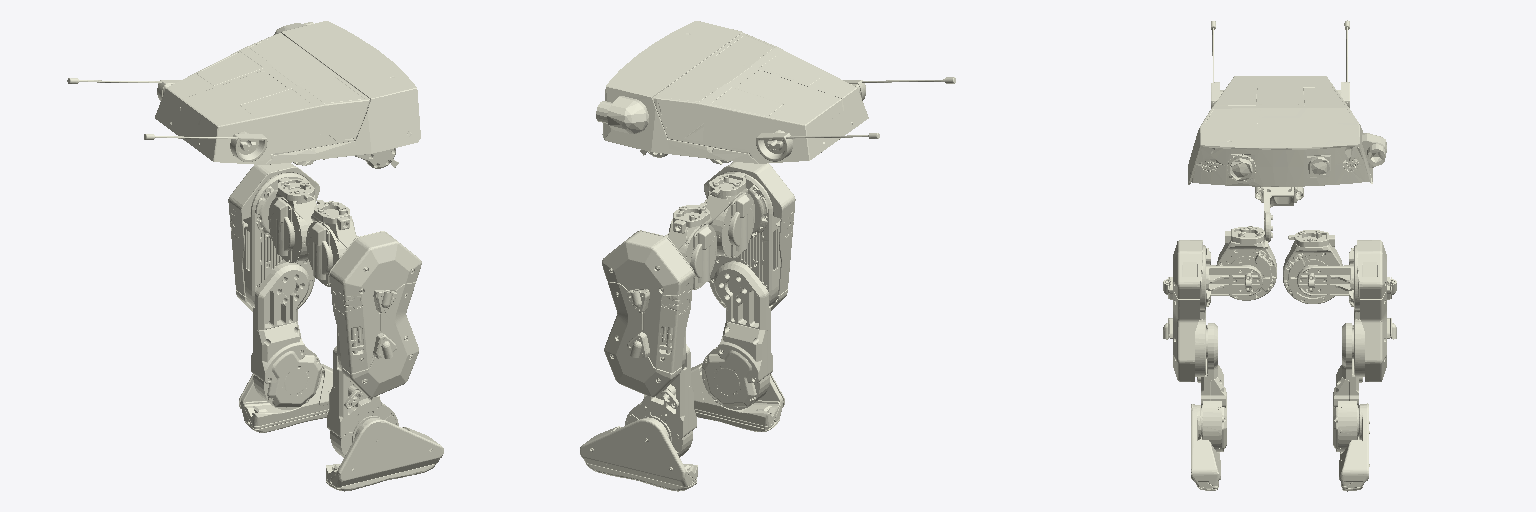
robot.urdf — bdx_v4:
<?xml version="1.0"?>
<robot name="bdx_v4">

    <material name="black"> <color rgba="0.0 0.0 0.0 1.0"/> </material>
    <material name="white"> <color rgba="1.0 1.0 1.0 1.0"/> </material>
    <material name="red"> <color rgba="0.8 0.0 0.0 1.0"/> </material>
    <material name="yellow"> <color rgba="1.0 1.0 0.0 1.0"/> </material>
    <material name="blue"> <color rgba="0.0 0.0 0.8 1.0"/> </material>
    <material name="green"> <color rgba="0.0 0.8 0.0 1.0"/> </material>
    <material name="orange"> <color rgba="1 0.4235 0.0392 1.0"/> </material>
    <material name="silver"> <color rgba="0.9137 0.9137 0.8471 1.0"/> </material>

    <link name="trunk"/>
    <link name="base_link">
        <inertial>
            <origin xyz="-0.019956547048000001 -9.4562330000000003e-05 0.069185614313999999" rpy="0 0 0"/>
            <mass value="6.6133790757300002"/>
            <inertia ixx="0.039260766863999999" ixy="-0.00012462819199999999" ixz="0.002935471379"
                     iyy="0.081055838429999999" iyz="1.8834257999999999e-05" izz="0.070623365802999993"/>
        </inertial>
        <visual>
            <origin xyz="0 0 0" rpy="0 0 0"/>
            <geometry>
                <mesh filename="package://robot_description/robots/bdx_v4/mesh/base_link.STL"/>
            </geometry>
            <material name="silver"/>
        </visual>
        <collision>
            <origin xyz="0 0 0" rpy="0 0 0"/>
            <geometry>
                <mesh filename="package://robot_description/robots/bdx_v4/mesh/base_link.STL"/>
            </geometry>
        </collision>
    </link>
    <joint name="dummy_joint" type="fixed">
        <parent link="trunk"/>
        <child link="base_link"/>
    </joint>
    <link name="left_hip_yaw_link">
        <inertial>
            <origin xyz="-0.0013704825649999974 0.0047008836579999977 -0.053614463938000005" rpy="0 0 0"/>
            <mass value="0.72758306889699997"/>
            <inertia ixx="0.0011982664849999999" ixy="7.3257500000000001e-06" ixz="-1.7438007000000001e-05"
                     iyy="0.00087218245400000002" iyz="9.8185919999999993e-06" izz="0.00054045132699999995"/>
        </inertial>
        <visual>
            <origin xyz="0 0 0" rpy="0 0 0"/>
            <geometry>
                <mesh filename="package://robot_description/robots/bdx_v4/mesh/left_hip_yaw.STL"/>
            </geometry>
            <material name="silver"/>
        </visual>
    </link>
    <joint name="left_hip_yaw_joint" type="revolute">
        <origin xyz="-0.019800000000000002 0.048750000000000002 0.065100000000000005" rpy="0 0 0"/>
        <parent link="base_link"/>
        <child link="left_hip_yaw_link"/>
        <axis xyz="0 0 1"/>
        <limit lower="-0.349066" upper="0.349066" effort="1000" velocity="100"/>
    </joint>
    <link name="left_hip_roll_link">
        <inertial>
            <origin xyz="0.002434906132 0.031075164804000001 -4.3982000000000003e-08" rpy="0 0 0"/>
            <mass value="0.17816248602099999"/>
            <inertia ixx="0.00022406375199999999" ixy="2.7766400000000001e-06" ixz="4.0480000000000001e-09"
                     iyy="4.8951405000000001e-05" iyz="-1.227e-09" izz="0.000207381101"/>
        </inertial>
        <visual>
            <origin xyz="0 0 0" rpy="0 0 0"/>
            <geometry>
                <mesh filename="package://robot_description/robots/bdx_v4/mesh/left_hip_roll.STL"/>
            </geometry>
            <material name="silver"/>
        </visual>
    </link>
    <joint name="left_hip_roll_joint" type="revolute">
        <origin xyz="0.017800000000000003 0.0054999999999999979 -0.065100000000000005" rpy="0 0 0"/>
        <parent link="left_hip_yaw_link"/>
        <child link="left_hip_roll_link"/>
        <axis xyz="1 0 0"/>
        <limit lower="-0.698132" upper="0.261799" effort="1000" velocity="100"/>
    </joint>
    <link name="left_hip_pitch_link">
        <inertial>
            <origin xyz="-0.001943711844 0.021611905602999998 -0.05843281744" rpy="0 0 0"/>
            <mass value="1.546391155801"/>
            <inertia ixx="0.0068089450609999996" ixy="-1.4453136000000001e-05" ixz="2.7927387000000001e-05"
                     iyy="0.0077723212580000003" iyz="1.6869981000000001e-05" izz="0.0015997177419999999"/>
        </inertial>
        <visual>
            <origin xyz="0 0 0" rpy="0 0 0"/>
            <geometry>
                <mesh filename="package://robot_description/robots/bdx_v4/mesh/left_hip_pitch.STL"/>
            </geometry>
            <material name="silver"/>
        </visual>
    </link>
    <joint name="left_hip_pitch_joint" type="revolute">
        <origin xyz="0.002 0.066700000000000009 0" rpy="0 0 0"/>
        <parent link="left_hip_roll_link"/>
        <child link="left_hip_pitch_link"/>
        <axis xyz="0 1 0"/>
        <limit lower="-0.52359" upper="2.356194" effort="1000" velocity="100"/>
    </joint>
    <link name="left_knee_link">
        <inertial>
            <origin xyz="-0.0052928658590000004 -0.010948343791000001 -0.099493215772999993" rpy="0 0 0"/>
            <mass value="0.84008606801999997"/>
            <inertia ixx="0.0031077569760000002" ixy="2.4678204000000001e-05" ixz="0.00015599091799999999"
                     iyy="0.0035335563340000002" iyz="-0.000120939988" izz="0.00061717738599999998"/>
        </inertial>
        <visual>
            <origin xyz="0 0 0" rpy="0 0 0"/>
            <geometry>
                <mesh filename="package://robot_description/robots/bdx_v4/mesh/left_knee.STL"/>
            </geometry>
            <material name="silver"/>
        </visual>
        <collision>
            <origin xyz="0 0 0" rpy="0 0 0"/>
            <geometry>
                <mesh filename="package://robot_description/robots/bdx_v4/mesh/left_knee.STL"/>
            </geometry>
        </collision>
    </link>
    <joint name="left_knee_joint" type="revolute">
        <origin xyz="0 0 -0.12" rpy="0 0 0"/>
        <parent link="left_hip_pitch_link"/>
        <child link="left_knee_link"/>
        <axis xyz="0 1 0"/>
        <limit lower="-2.321287" upper="0" effort="1000" velocity="100"/>
    </joint>
    <link name="left_ankle_link">
        <inertial>
            <origin xyz="0.021285777794999999 -0.0018934604689999912 -0.037131302197999982" rpy="0 0 0"/>
            <mass value="0.42536362871400002"/>
            <inertia ixx="0.00043347552500000002" ixy="3.7516683e-05" ixz="9.9205912999999994e-05" iyy="0.001268967094"
                     iyz="-7.3035450999999995e-05" izz="0.00097118438400000003"/>
        </inertial>
        <visual>
            <origin xyz="0 0 0" rpy="0 0 0"/>
            <geometry>
                <mesh filename="package://robot_description/robots/bdx_v4/mesh/left_ankle.STL"/>
            </geometry>
            <material name="silver"/>
        </visual>
        <collision>
            <geometry>
                <mesh filename="package://robot_description/robots/bdx_v4/mesh/left_ankle.STL"/>
            </geometry>
        </collision>
    </link>
    <joint name="left_ankle_joint" type="revolute">
        <origin xyz="0 0.0083000000000000018 -0.14000000000000001" rpy="0 0 0"/>
        <parent link="left_knee_link"/>
        <child link="left_ankle_link"/>
        <axis xyz="0 1 0"/>
        <limit lower="-1.39626" upper="1.39626" effort="1000" velocity="100"/>
    </joint>
    <link name="left_foot">
        <inertial>
        <origin xyz="0 0 0" rpy="0 0 0"/>
        <mass value="1e-9"/>
        <inertia ixx="0" ixy="0" ixz="0" iyy="0" iyz="0" izz="0"/>
        </inertial>
    </link>
    <joint name="left_foot_joint" type="fixed">
        <origin xyz="0.025 0.0 -0.08" rpy="0 0 0"/>
        <parent link="left_ankle_link"/>
        <child link="left_foot"/>
        <axis xyz="0 0 0"/>
    </joint>
    <link name="right_hip_yaw_link">
        <inertial>
            <origin xyz="-0.0013603342579999976 -0.0047002975830000016 -0.053616255320000007" rpy="0 0 0"/>
            <mass value="0.72757471832700005"/>
            <inertia ixx="0.0011981470590000001" ixy="-7.198172e-06" ixz="-1.8172661999999999e-05"
                     iyy="0.00087193251399999996" iyz="-9.8259989999999994e-06" izz="0.00054025604299999996"/>
        </inertial>
        <visual>
            <origin xyz="0 0 0" rpy="0 0 0"/>
            <geometry>
                <mesh filename="package://robot_description/robots/bdx_v4/mesh/right_hip_yaw.STL"/>
            </geometry>
            <material name="silver"/>
        </visual>
    </link>
    <joint name="right_hip_yaw_joint" type="revolute">
        <origin xyz="-0.019800000000000002 -0.048750000000000002 0.065100000000000005" rpy="0 0 0"/>
        <parent link="base_link"/>
        <child link="right_hip_yaw_link"/>
        <axis xyz="0 0 1"/>
        <limit lower="-0.349066" upper="0.349066" effort="1000" velocity="100"/>
    </joint>
    <link name="right_hip_roll_link">
        <inertial>
            <origin xyz="0.0024349059750000002 -0.031075318821999993 -6.9957999999999997e-08" rpy="0 0 0"/>
            <mass value="0.17816248882999999"/>
            <inertia ixx="0.000224062441" ixy="-2.7761439999999999e-06" ixz="-4.3610000000000001e-09"
                     iyy="4.8951320999999997e-05" iyz="-5.69e-10" izz="0.00020738011399999999"/>
        </inertial>
        <visual>
            <origin xyz="0 0 0" rpy="0 0 0"/>
            <geometry>
                <mesh filename="package://robot_description/robots/bdx_v4/mesh/right_hip_roll.STL"/>
            </geometry>
            <material name="silver"/>
        </visual>
    </link>
    <joint name="right_hip_roll_joint" type="revolute">
        <origin xyz="0.0178 -0.0054999999999999979 -0.065100000000000005" rpy="0 0 0"/>
        <parent link="right_hip_yaw_link"/>
        <child link="right_hip_roll_link"/>
        <axis xyz="1 0 0"/>
        <limit lower="-0.261799" upper="0.698132" effort="1000" velocity="100"/>
    </joint>
    <link name="right_hip_pitch_link">
        <inertial>
            <origin xyz="-0.0017495255789999999 -0.021683786784999992 -0.059785911971" rpy="0 0 0"/>
            <mass value="1.508634573091"/>
            <inertia ixx="0.0065804438140000003" ixy="1.1502983999999999e-05" ixz="2.2573144999999999e-05"
                     iyy="0.0074799455270000001" iyz="-3.3984170000000002e-06" izz="0.0015198501160000001"/>
        </inertial>
        <visual>
            <origin xyz="0 0 0" rpy="0 0 0"/>
            <geometry>
                <mesh filename="package://robot_description/robots/bdx_v4/mesh/right_hip_pitch.STL"/>
            </geometry>
            <material name="silver"/>
        </visual>
    </link>
    <joint name="right_hip_pitch_joint" type="revolute">
        <origin xyz="0.002 -0.066700000000000009 0" rpy="0 0 0"/>
        <parent link="right_hip_roll_link"/>
        <child link="right_hip_pitch_link"/>
        <axis xyz="0 1 0"/>
        <limit lower="-0.52359" upper="2.356194" effort="1000" velocity="100"/>
    </joint>
    <link name="right_knee_link">
        <inertial>
            <origin xyz="-0.005292586264 0.010948402630000006 -0.099493689787000017" rpy="0 0 0"/>
            <mass value="0.84007571389500002"/>
            <inertia ixx="0.0031077264559999998" ixy="-2.4679593000000001e-05" ixz="0.00015599712700000001"
                     iyy="0.00353351394" iyz="0.000120938625" izz="0.00061717107400000005"/>
        </inertial>
        <visual>
            <origin xyz="0 0 0" rpy="0 0 0"/>
            <geometry>
                <mesh filename="package://robot_description/robots/bdx_v4/mesh/right_knee.STL"/>
            </geometry>
            <material name="silver"/>
        </visual>
        <collision>
            <origin xyz="0 0 0" rpy="0 0 0"/>
            <geometry>
                <mesh filename="package://robot_description/robots/bdx_v4/mesh/right_knee.STL"/>
            </geometry>
        </collision>
    </link>
    <joint name="right_knee_joint" type="revolute">
        <origin xyz="0 0 -0.12" rpy="0 0 0"/>
        <parent link="right_hip_pitch_link"/>
        <child link="right_knee_link"/>
        <axis xyz="0 1 0"/>
        <limit lower="-2.321287" upper="0" effort="1000" velocity="100"/>
    </joint>
    <link name="right_ankle_link">
        <inertial>
            <origin xyz="0.021197320038000001 0.0019986848659999945 -0.037122430854999999" rpy="0 0 0"/>
            <mass value="0.42488534599799999"/>
            <inertia ixx="0.000433924631" ixy="-3.7258127999999998e-05" ixz="9.7928312999999998e-05"
                     iyy="0.0012674148629999999" iyz="7.3878333999999993e-05" izz="0.00096987049100000005"/>
        </inertial>
        <visual>
            <origin xyz="0 0 0" rpy="0 0 0"/>
            <geometry>
                <mesh filename="package://robot_description/robots/bdx_v4/mesh/right_ankle.STL"/>
            </geometry>
            <material name="silver"/>
        </visual>
        <collision>
            <origin xyz="0 0 0" rpy="0 0 0"/>
            <geometry>
                <mesh filename="package://robot_description/robots/bdx_v4/mesh/right_ankle.STL"/>
            </geometry>
        </collision>
    </link>
    <joint name="right_ankle_joint" type="revolute">
        <origin xyz="0 -0.0083000000000000018 -0.14000000000000001" rpy="0 0 0"/>
        <parent link="right_knee_link"/>
        <child link="right_ankle_link"/>
        <axis xyz="0 1 0"/>
        <limit lower="-1.39626" upper="1.39626" effort="1000" velocity="100"/>
    </joint>
        <link name="right_foot">
        <inertial>
        <origin xyz="0 0 0" rpy="0 0 0"/>
        <mass value="1e-9"/>
        <inertia ixx="0" ixy="0" ixz="0" iyy="0" iyz="0" izz="0"/>
        </inertial>
    </link>
    <joint name="right_foot_joint" type="fixed">
        <origin xyz="0.025 0.0 -0.08" rpy="0 0 0"/>
        <parent link="right_ankle_link"/>
        <child link="right_foot"/>
        <axis xyz="0 0 0"/>
    </joint>
    <link name="neck_forward_link">
        <inertial>
            <origin xyz="-0.076888397088999999 0.010328186919999999 0.025215684911999992" rpy="0 0 0"/>
            <mass value="0.38277457890700001"/>
            <inertia ixx="0.00021265397800000001" ixy="0.00010316241499999999" ixz="0.00019113018000000001"
                     iyy="0.00095137714099999997" iyz="-3.2163338999999997e-05" izz="0.00093832168299999997"/>
        </inertial>
        <visual>
            <origin xyz="0 0 0" rpy="0 0 0"/>
            <geometry>
                <mesh filename="package://robot_description/robots/bdx_v4/mesh/neck_forward.STL"/>
            </geometry>
            <material name="silver"/>
        </visual>
    </link>
    <joint name="neck_forward_joint" type="revolute">
        <origin xyz="0.078200000000000006 -0.014999999999999999 0.12675" rpy="0 0 0"/>
        <parent link="base_link"/>
        <child link="neck_forward_link"/>
        <axis xyz="0 1 0"/>
        <limit lower="0" upper="1.69297" effort="1000" velocity="100"/>
    </joint>
    <link name="neck_pitch_link">
        <inertial>
            <origin xyz="-0.0079329644990000017 -0.025125774388999999 0.036720492466999988" rpy="0 0 0"/>
            <mass value="0.114367939988"/>
            <inertia ixx="0.00013656656000000001" ixy="5.0904099999999999e-07" ixz="1.3831610000000001e-05"
                     iyy="0.00012280284800000001" iyz="-2.6129910000000002e-06" izz="7.3288706000000005e-05"/>
        </inertial>
        <visual>
            <origin xyz="0 0 0" rpy="0 0 0"/>
            <geometry>
                <mesh filename="package://robot_description/robots/bdx_v4/mesh/neck_pitch.STL"/>
            </geometry>
            <material name="silver"/>
        </visual>
    </link>
    <joint name="neck_pitch_joint" type="revolute">
        <origin xyz="-0.13085017638000002 0.01529999999999995 0.033249305877000007" rpy="0 0 0"/>
        <parent link="neck_forward_link"/>
        <child link="neck_pitch_link"/>
        <axis xyz="0 1 0"/>
        <limit lower="-1.5708" upper="0" effort="1000" velocity="100"/>
    </joint>
    <link name="neck_yaw_link">
        <inertial>
            <origin xyz="0.013784319136999998 3.2433919999999474e-06 0.023272566920999993" rpy="0 0 0"/>
            <mass value="0.26127167026199999"/>
            <inertia ixx="0.000148809168" ixy="9.0984000000000003e-08" ixz="-5.272893e-06" iyy="0.000163327401"
                     iyz="3.1030000000000001e-08" izz="0.00022262619099999999"/>
        </inertial>
        <visual>
            <origin xyz="0 0 0" rpy="0 0 0"/>
            <geometry>
                <mesh filename="package://robot_description/robots/bdx_v4/mesh/neck_yaw.STL"/>
            </geometry>
            <material name="silver"/>
        </visual>
    </link>
    <joint name="neck_yaw_joint" type="revolute">
        <origin xyz="-1.8036100000312638e-07 0.000499999999999997 0.033999999998999997" rpy="0 0 0"/>
        <parent link="neck_pitch_link"/>
        <child link="neck_yaw_link"/>
        <axis xyz="0 0 1"/>
        <limit lower="-1.0472" upper="1.0472" effort="1000" velocity="100"/>
    </joint>
    <link name="neck_roll_link">
        <inertial>
            <origin xyz="-0.041045045562000004 0.0040131266840000004 0.019271782804000021" rpy="0 0 0"/>
            <mass value="1.665580908708"/>
            <inertia ixx="0.011711821107" ixy="-0.00091213401500000004" ixz="-0.00027195199800000001"
                     iyy="0.017430081654999999" iyz="-0.00017468378799999999" izz="0.027365107553"/>
        </inertial>
        <visual>
            <origin xyz="0 0 0" rpy="0 0 0"/>
            <geometry>
                <mesh filename="package://robot_description/robots/bdx_v4/mesh/neck_roll.STL"/>
            </geometry>
            <material name="silver"/>
        </visual>
        <collision>
            <origin xyz="0 0 0" rpy="0 0 0"/>
            <geometry>
                <mesh filename="package://robot_description/robots/bdx_v4/mesh/neck_roll.STL"/>
            </geometry>
        </collision>
    </link>
    <joint name="neck_roll_joint" type="revolute">
        <origin xyz="0.052749913798000002 0 0.016250279823999986" rpy="0 0 0"/>
        <parent link="neck_yaw_link"/>
        <child link="neck_roll_link"/>
        <axis xyz="1 0 0"/>
        <limit lower="-0.436332" upper="0.436332" effort="1000" velocity="100"/>
    </joint>
    <link name="left_ear_link">
        <inertial>
            <origin xyz="-0.050447081206 0.027057884695000006 0.015957557960000035" rpy="0 0 0"/>
            <mass value="0.028229970613000002"/>
            <inertia ixx="1.4040807e-05" ixy="5.590687e-06" ixz="3.2075715000000003e-05" iyy="0.00010995048"
                     iyz="-1.8955849999999999e-06" izz="9.8995915e-05"/>
        </inertial>
        <visual>
            <origin xyz="0 0 0" rpy="0 0 0"/>
            <geometry>
                <mesh filename="package://robot_description/robots/bdx_v4/mesh/left_ear.STL"/>
            </geometry>
            <material name="silver"/>
        </visual>
    </link>
    <joint name="left_ear_joint" type="fixed">
        <origin xyz="-0.187998839724 0.083299999999999999 0.026339002718999999" rpy="0 0 0"/>
        <parent link="neck_roll_link"/>
        <child link="left_ear_link"/>
        <axis xyz="0 1 0"/>
    </joint>
    <link name="right_ear_link">
        <inertial>
            <origin xyz="-0.050406020175999988 -0.027060168963000009 0.016025766692999988" rpy="0 0 0"/>
            <mass value="0.028240494080000001"/>
            <inertia ixx="1.4076728e-05" ixy="-5.5886049999999997e-06" ixz="3.2117250000000002e-05" iyy="0.000110008266"
                     iyz="1.8901379999999999e-06" izz="9.9017573000000005e-05"/>
        </inertial>
        <visual>
            <origin xyz="0 0 0" rpy="0 0 0"/>
            <geometry>
                <mesh filename="package://robot_description/robots/bdx_v4/mesh/right_ear.STL"/>
            </geometry>
            <material name="silver"/>
        </visual>
    </link>
    <joint name="right_ear_joint" type="fixed">
        <origin xyz="-0.187998839724 -0.083299999999999999 0.026339002718999999" rpy="0 0 0"/>
        <parent link="neck_roll_link"/>
        <child link="right_ear_link"/>
        <axis xyz="0 -1 0"/>
    </joint>
    <link name="imu_link"/>
    <joint name="imu_joint" type="fixed">
        <origin xyz="0 0 0" rpy="0 0 0"/>
        <parent link="base_link"/>
        <child link="imu_link"/>
        <axis xyz="0 0 0"/>
    </joint>
</robot>

--- Facts derived from the render (not from the file) ---
3 views of the same robot in one strip: view 1: azimuth 30°, elevation 25°; view 2: azimuth 150°, elevation 25°; view 3: azimuth 270°, elevation 25° (orthographic).
Model bdx_v4 with 21 links and 20 joints (14 revolute, 6 fixed), rooted at trunk, posed every joint at zero.
Links seen in each view (by area): view 1: neck_roll_link, right_hip_pitch_link, left_knee_link, left_hip_pitch_link, right_ankle_link, left_hip_yaw_link, right_knee_link, right_hip_yaw_link, left_ankle_link, right_ear_link, neck_forward_link; view 2: neck_roll_link, left_hip_pitch_link, right_knee_link, right_hip_pitch_link, left_ankle_link, right_hip_yaw_link, left_knee_link, left_hip_yaw_link, right_ankle_link, left_ear_link; view 3: neck_roll_link, right_hip_pitch_link, left_hip_pitch_link, left_knee_link, right_knee_link, left_hip_yaw_link, right_hip_yaw_link, left_ankle_link, right_ankle_link, left_hip_roll_link, right_hip_roll_link, neck_forward_link.
Boxes of the visible links, bbox=[...] form: neck_roll_link: bbox=[155, 21, 420, 164]; right_hip_pitch_link: bbox=[329, 231, 421, 397]; left_knee_link: bbox=[251, 262, 321, 409]; left_hip_pitch_link: bbox=[228, 163, 319, 311]; right_ankle_link: bbox=[326, 418, 443, 491]; left_hip_yaw_link: bbox=[268, 177, 316, 262]; right_knee_link: bbox=[327, 346, 398, 457]; right_hip_yaw_link: bbox=[306, 200, 356, 286]; left_ankle_link: bbox=[239, 364, 332, 432]; right_ear_link: bbox=[144, 134, 267, 161]; neck_forward_link: bbox=[293, 148, 398, 168]; neck_roll_link: bbox=[596, 21, 868, 163]; left_hip_pitch_link: bbox=[602, 230, 694, 396]; right_knee_link: bbox=[702, 261, 772, 409]; right_hip_pitch_link: bbox=[704, 162, 795, 310]; left_ankle_link: bbox=[580, 417, 697, 491]; right_hip_yaw_link: bbox=[704, 172, 754, 257]; left_knee_link: bbox=[625, 344, 696, 457]; left_hip_yaw_link: bbox=[668, 203, 716, 289]; right_ankle_link: bbox=[691, 363, 784, 431]; left_ear_link: bbox=[756, 133, 879, 161]; neck_roll_link: bbox=[1188, 76, 1386, 186]; right_hip_pitch_link: bbox=[1163, 240, 1210, 381]; left_hip_pitch_link: bbox=[1349, 240, 1396, 381]; left_knee_link: bbox=[1333, 323, 1362, 451]; right_knee_link: bbox=[1197, 323, 1226, 451]; left_hip_yaw_link: bbox=[1283, 230, 1342, 303]; right_hip_yaw_link: bbox=[1216, 226, 1276, 300]; left_ankle_link: bbox=[1339, 403, 1369, 491]; right_ankle_link: bbox=[1191, 404, 1220, 490]; left_hip_roll_link: bbox=[1290, 264, 1353, 295]; right_hip_roll_link: bbox=[1206, 264, 1269, 295]; neck_forward_link: bbox=[1255, 187, 1303, 248].
Bounding box of the posed robot: 0.4752 × 0.3797 × 0.6343 m (x, y, z).
16 mesh visuals loaded from 17 distinct referenced files (16 binary STL); not drawn: 1 (reference not matched to a file when rendering).
